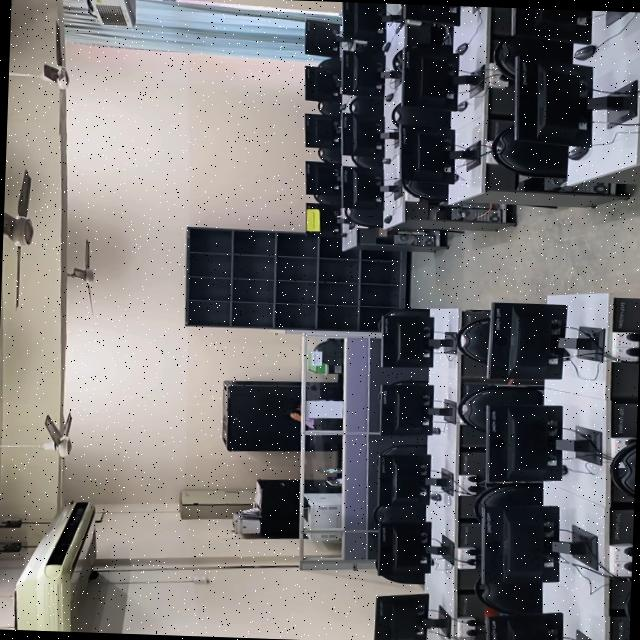Ac: (15, 498, 104, 632)
Chair: (458, 576, 551, 612), (489, 140, 568, 173), (599, 434, 636, 498), (484, 38, 572, 61), (452, 314, 493, 363), (467, 481, 544, 506), (451, 387, 490, 430), (388, 106, 453, 126), (402, 178, 448, 198), (340, 207, 386, 225), (348, 96, 383, 111), (352, 156, 380, 168), (318, 148, 340, 160), (314, 101, 336, 112), (381, 212, 395, 222), (430, 424, 443, 434), (428, 491, 442, 500), (382, 92, 395, 100)
Cpu: (520, 174, 618, 192), (436, 204, 502, 221), (376, 231, 439, 247)
Monitor: (510, 56, 631, 146), (486, 401, 606, 483), (489, 300, 602, 380), (483, 504, 598, 581), (398, 120, 478, 184), (404, 48, 480, 109), (375, 380, 458, 435), (376, 454, 454, 504), (373, 593, 452, 640), (378, 524, 452, 574), (379, 312, 444, 367), (509, 6, 608, 38), (481, 613, 598, 640), (339, 1, 402, 41), (342, 111, 390, 157), (340, 48, 386, 94), (341, 165, 390, 207), (302, 200, 348, 237), (302, 110, 344, 148), (303, 18, 344, 55), (300, 64, 340, 101), (304, 160, 342, 194), (407, 3, 479, 20)
Mouse: (568, 42, 601, 61), (564, 144, 590, 162), (452, 41, 472, 54), (453, 98, 470, 111)
Projector: (81, 0, 144, 32)
